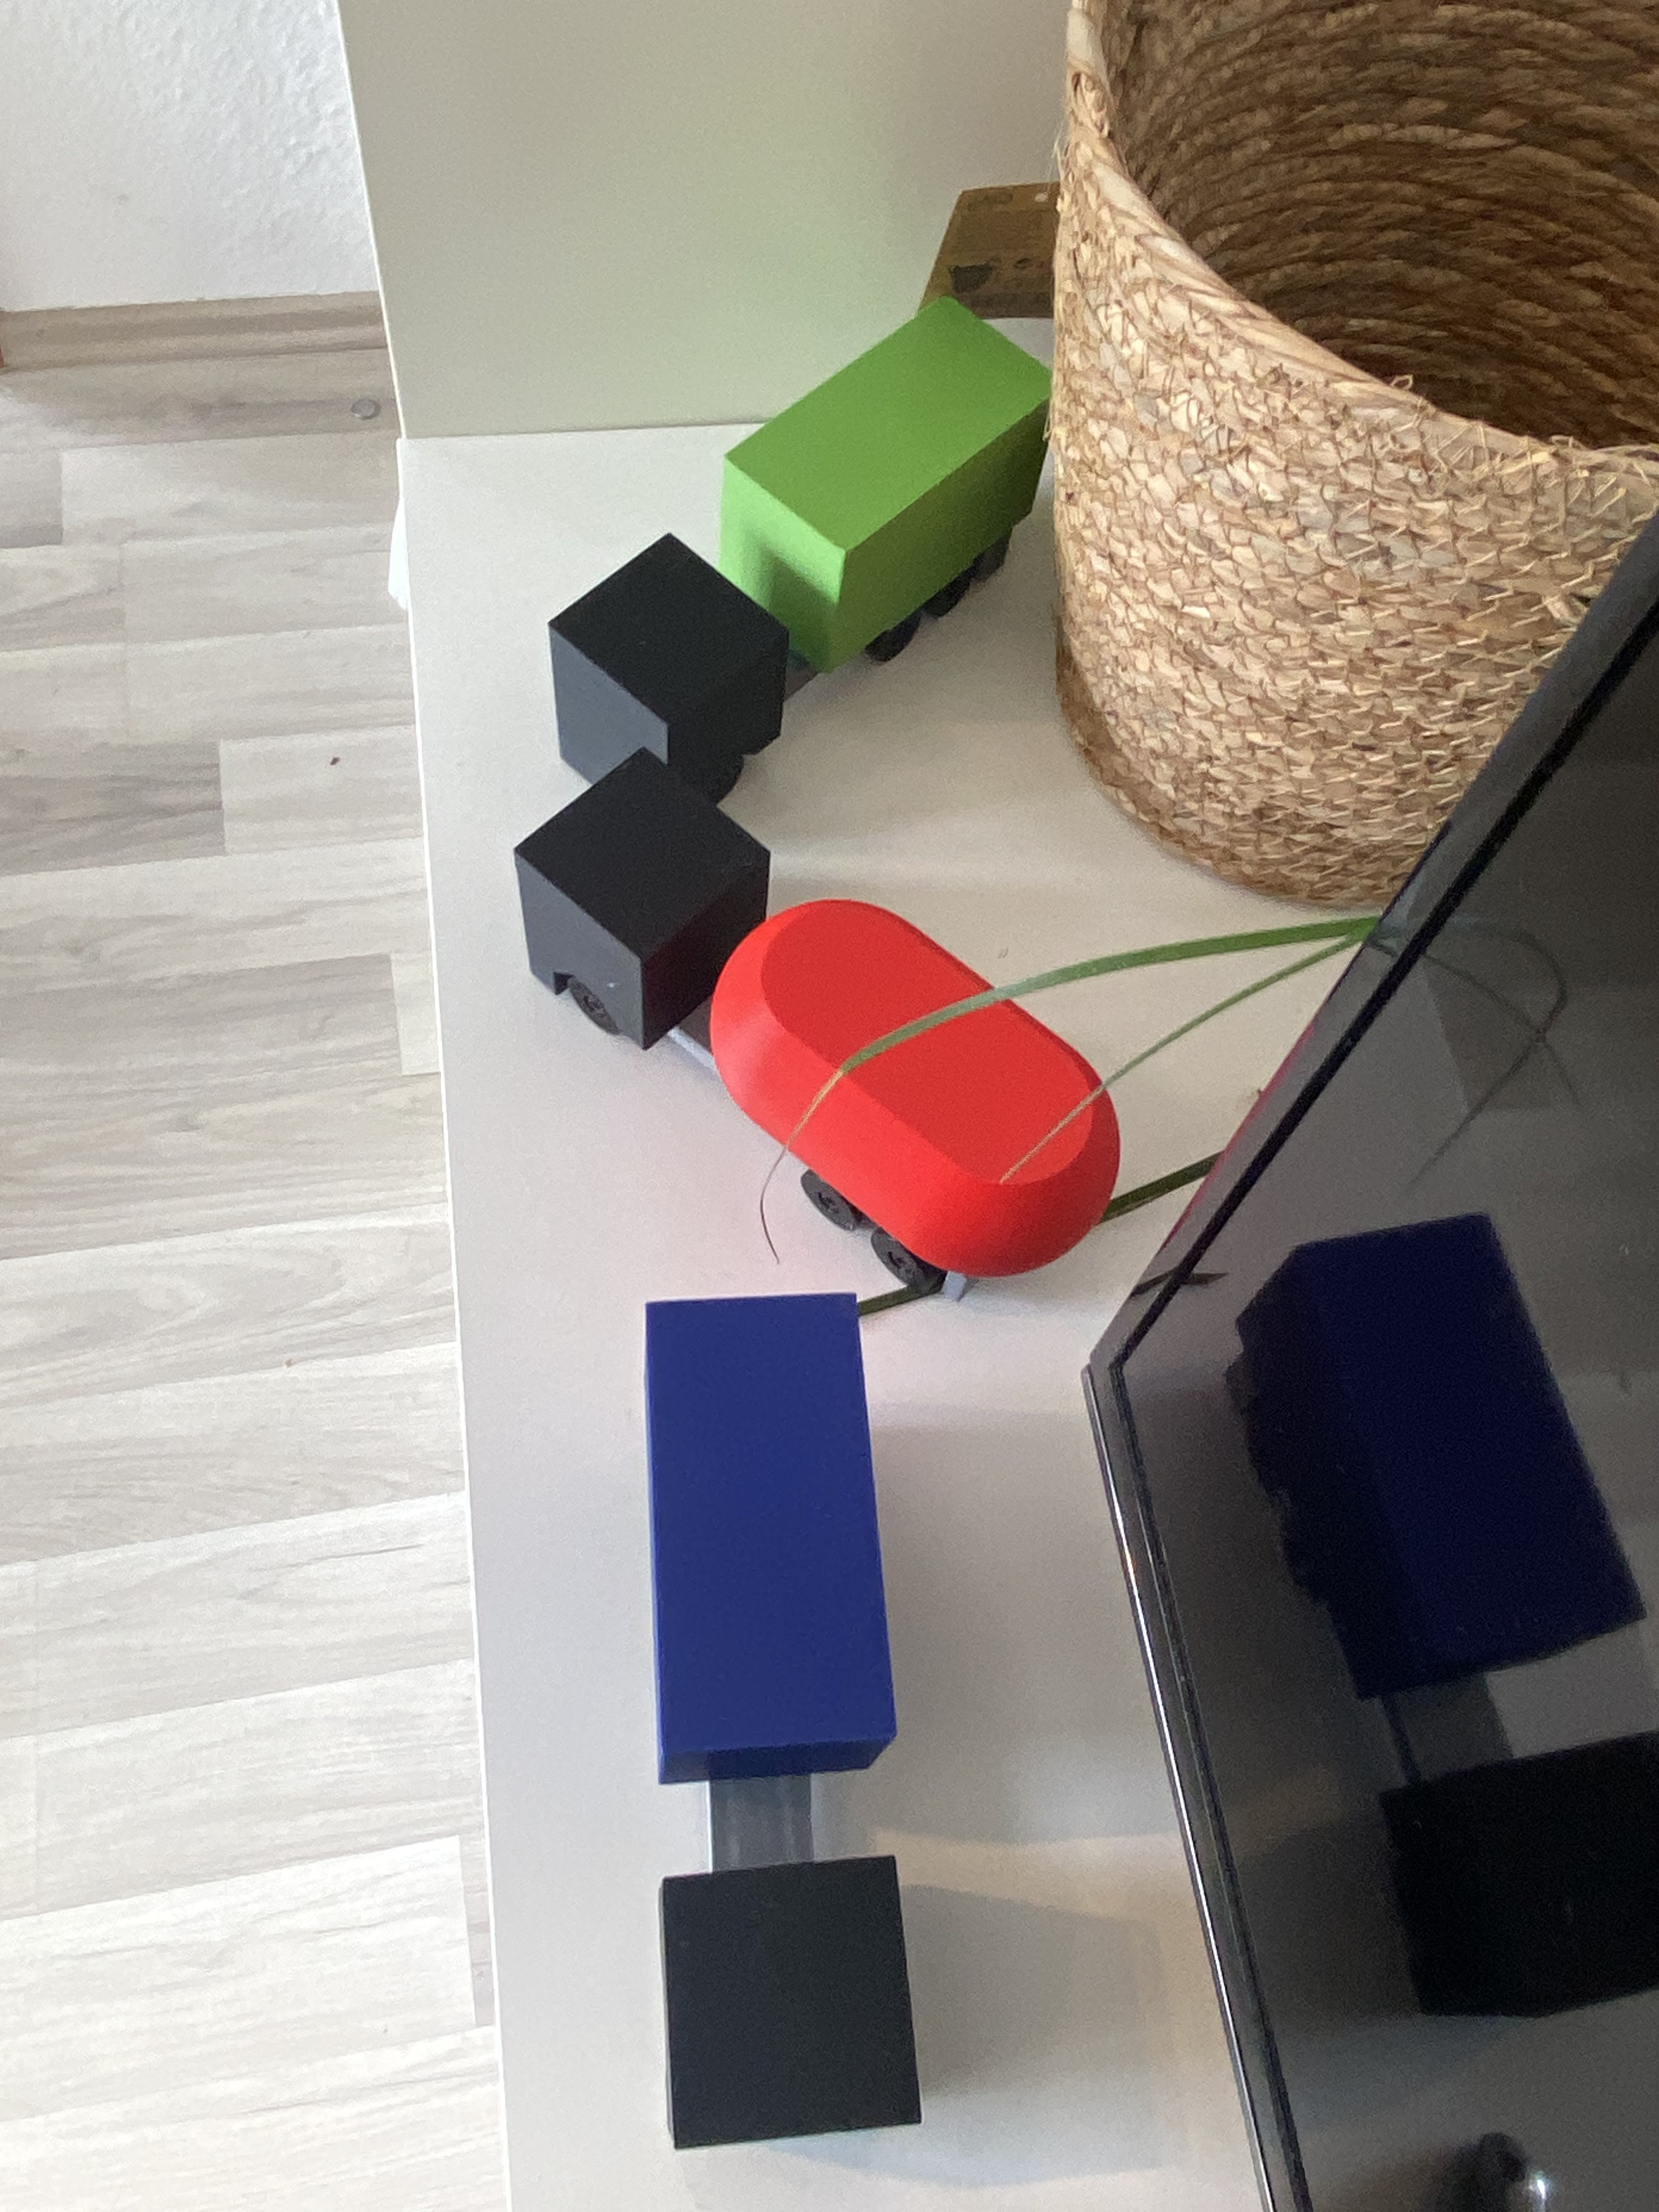blue_truck: (333, 1587, 1204, 1876)
green_truck: (669, 266, 941, 864)
red_truck: (474, 885, 1166, 1172)
